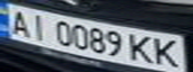0: (48, 17, 75, 47), (69, 21, 90, 52)
8: (87, 25, 106, 55)
9: (103, 28, 127, 60)
A: (3, 7, 33, 38)
I: (24, 11, 54, 42)
K: (148, 35, 184, 70), (127, 32, 157, 65)
